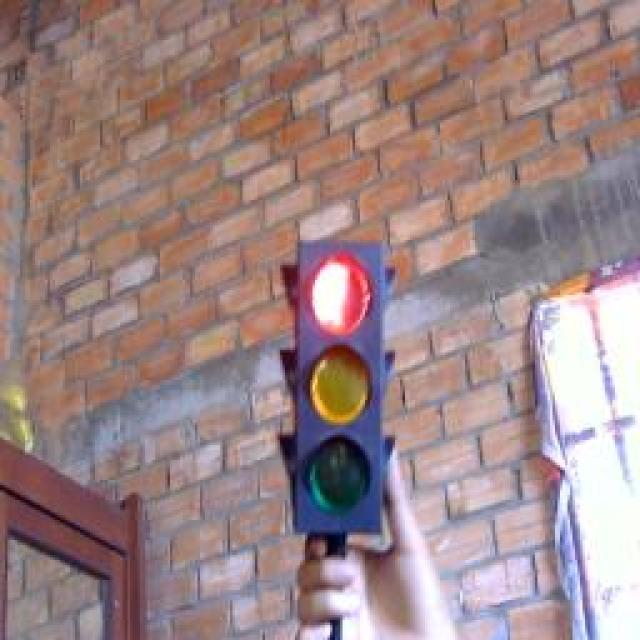-: (304, 246, 379, 344)
